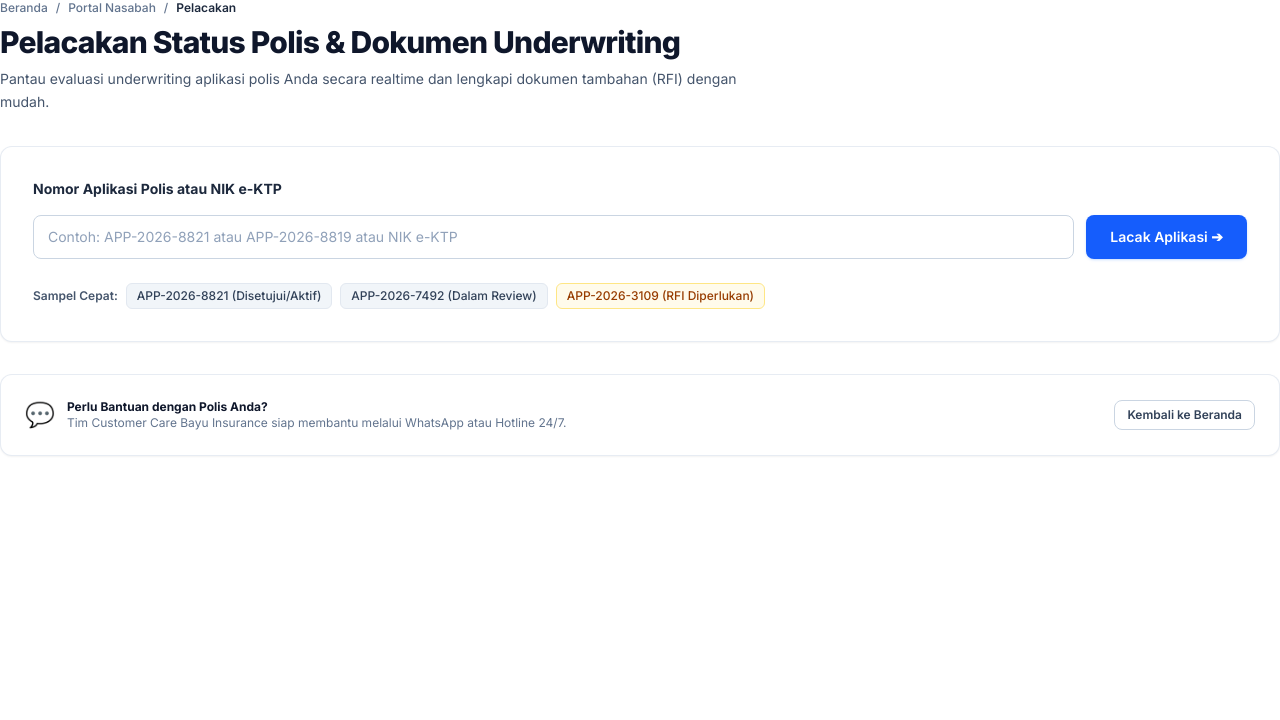
TrackingPage & TrackingWorkbench › searches and displays application details via quick sample button
Click the button "APP-2026-8821 (Disetujui/Aktif)" at (229, 296), box [126,282,332,308]
(page scrolled)
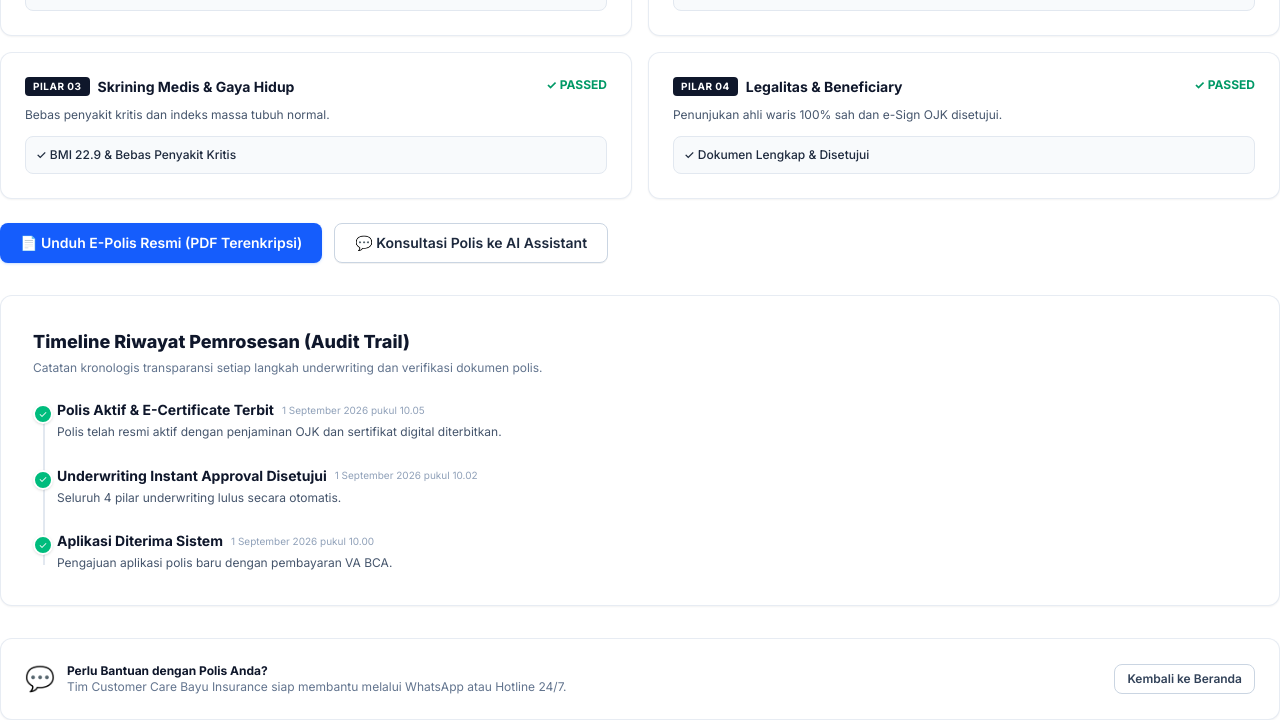
Result: the heading "Skrining Medis & Gaya Hidup" is shown at [98,76,294,96]
Result: the heading "Legalitas & Beneficiary" is shown at [746,76,903,96]
Result: the heading "Timeline Riwayat Pemrosesan (Audit Trail)" is shown at [33,331,410,352]
